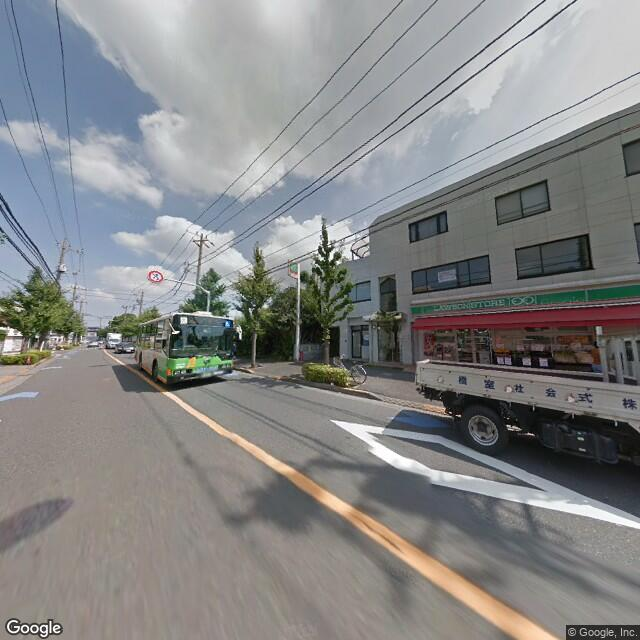lawson: (411, 274, 637, 319)
